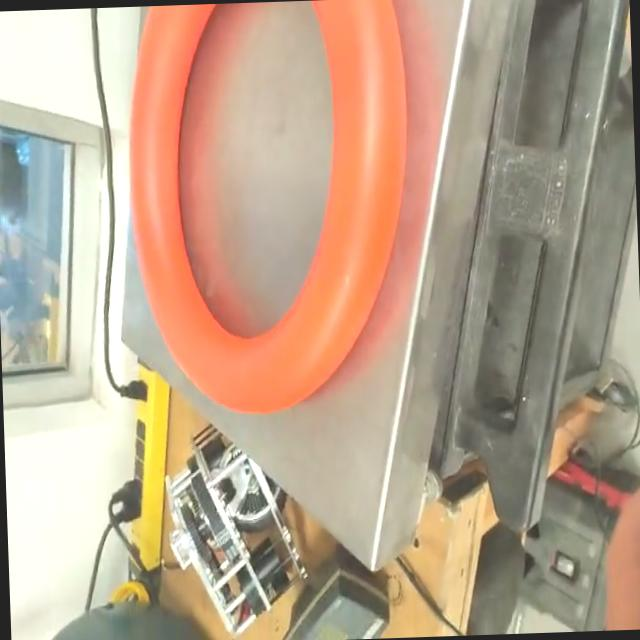note: (119, 0, 418, 421)
